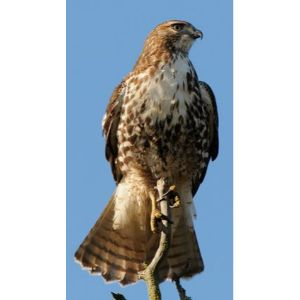hawk: (71, 17, 223, 286)
